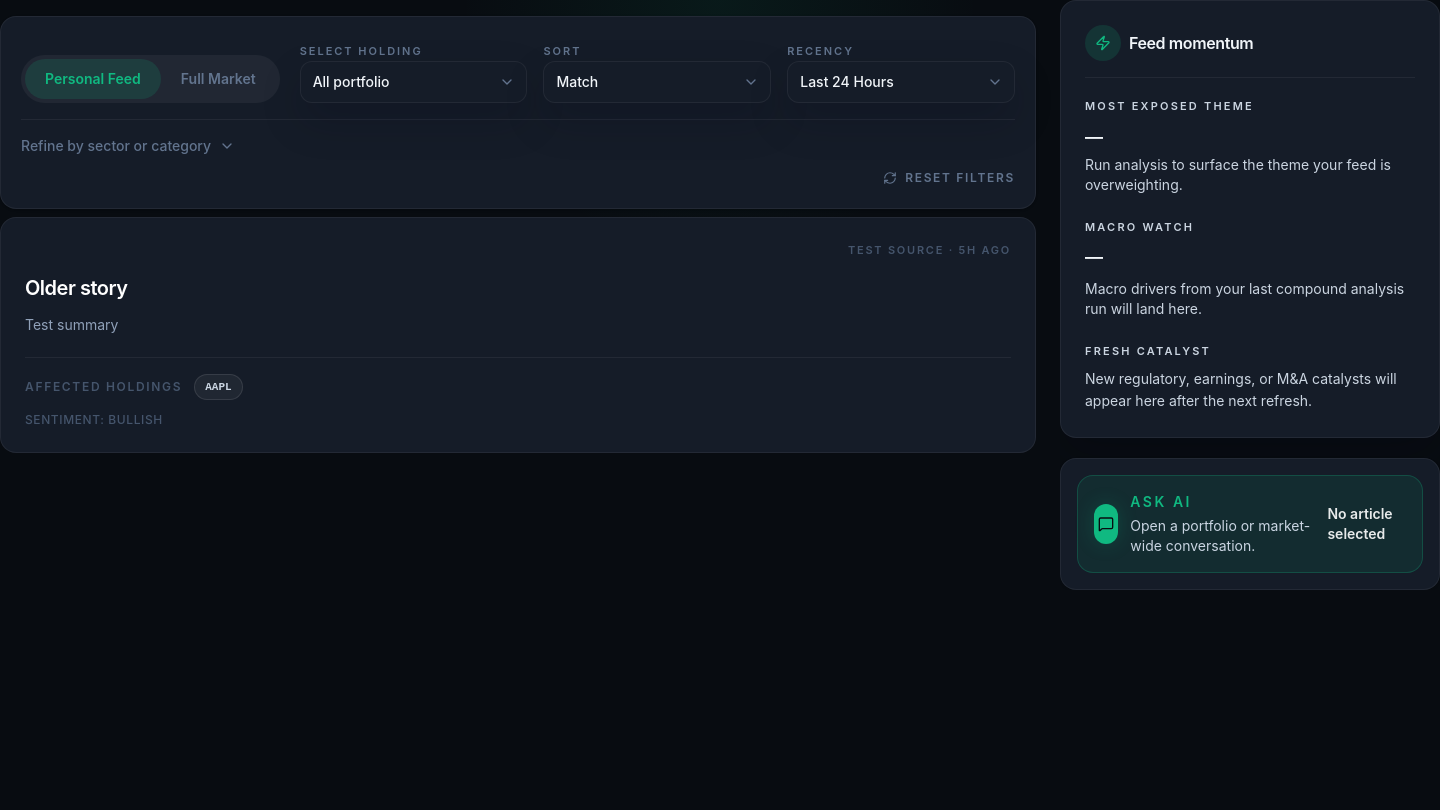
it: FeedView › F08 filtered-empty vs source-empty › a personal-feed filter with zero matches keeps the filter state and offers reset
Step 1. Select "Past hour" in the dropdown labelled "Recency" → (901, 82), box x1=787 y1=61 x2=1015 y2=103
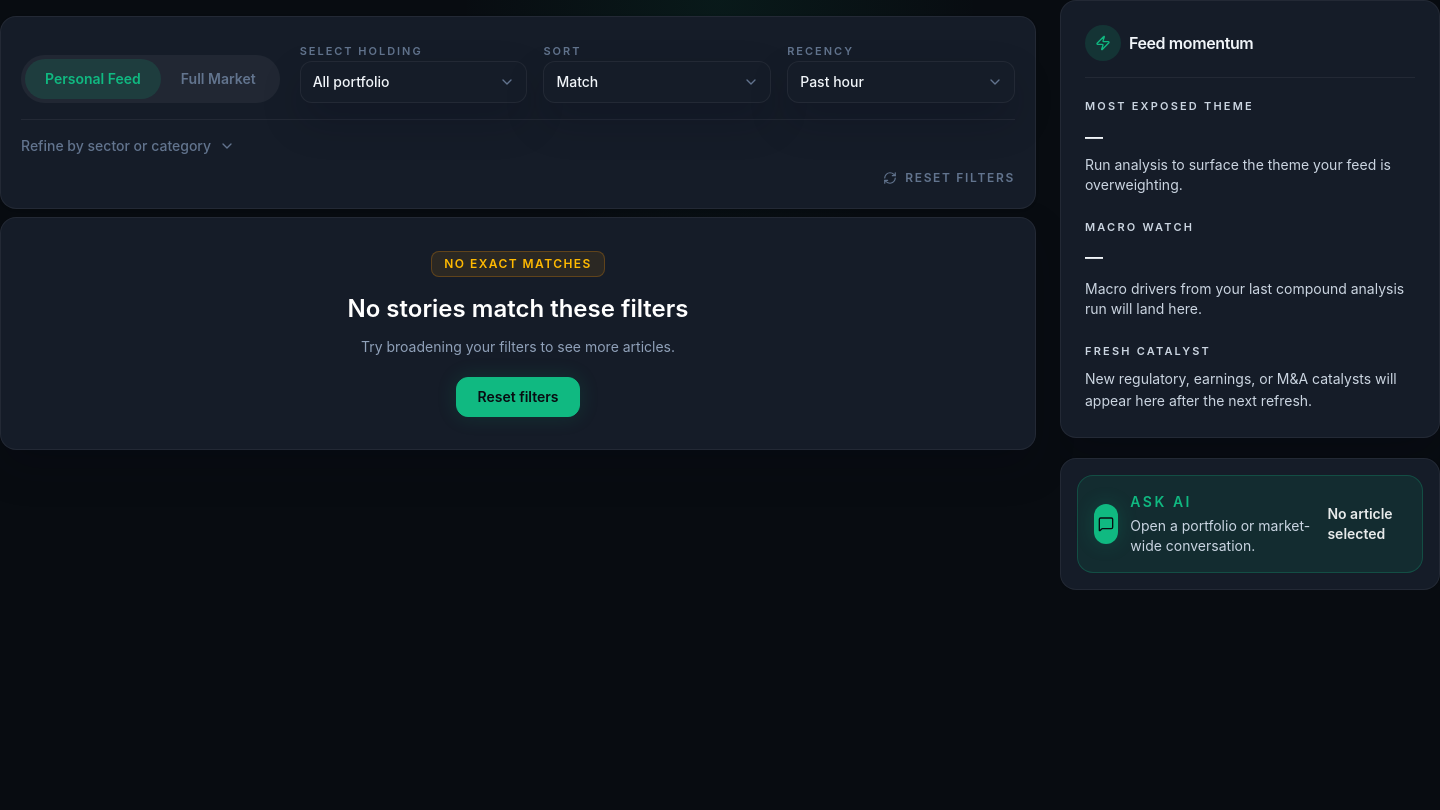
Expected: the button "Reset filters" below "Recency" is shown, x1=883 y1=170 x2=1015 y2=186
Expected: the heading "No stories match these filters" is shown, x1=348 y1=294 x2=688 y2=323
